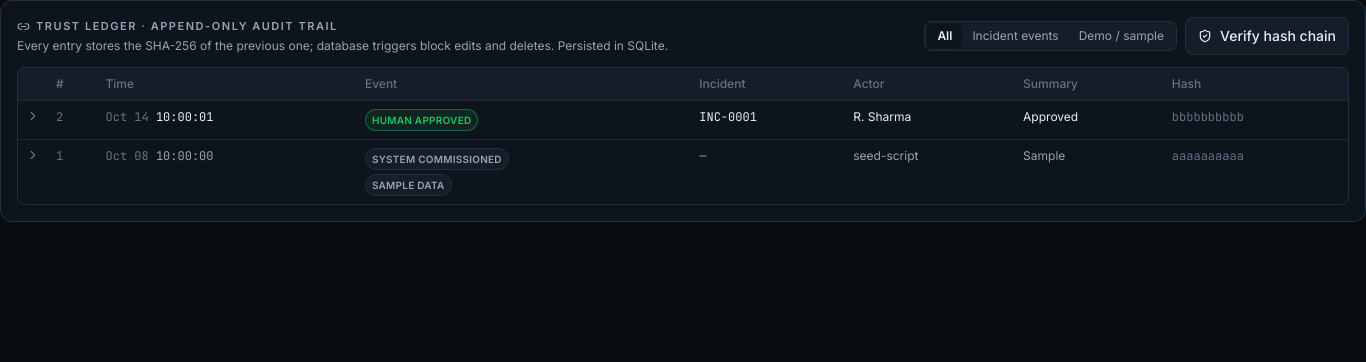
Scenario: TrustLedger › expands a row to show hashes and payload
Click the row with test id "ledger-row" that starts with "Oct 14" at (683, 120), box [18, 100, 1348, 140]
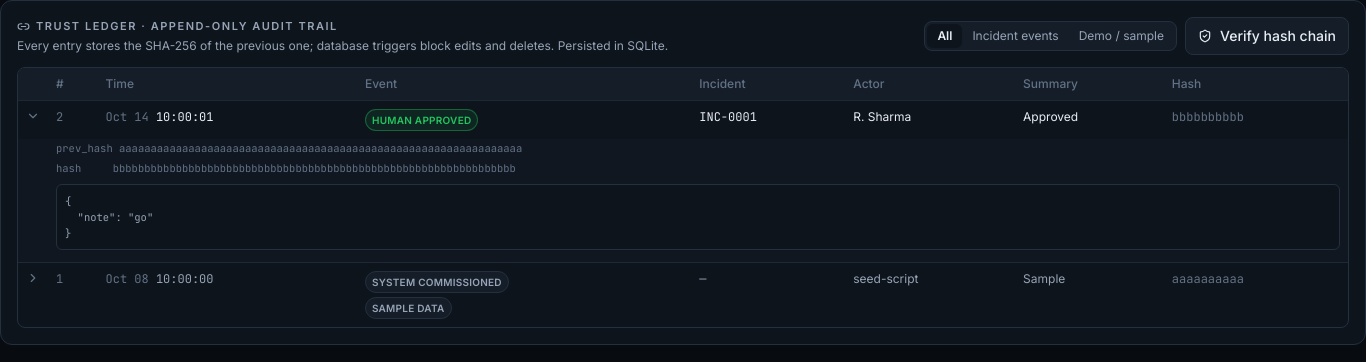
Expected: the text "{ \"note\": \"go\" }" is shown, [56, 184, 1340, 250]
